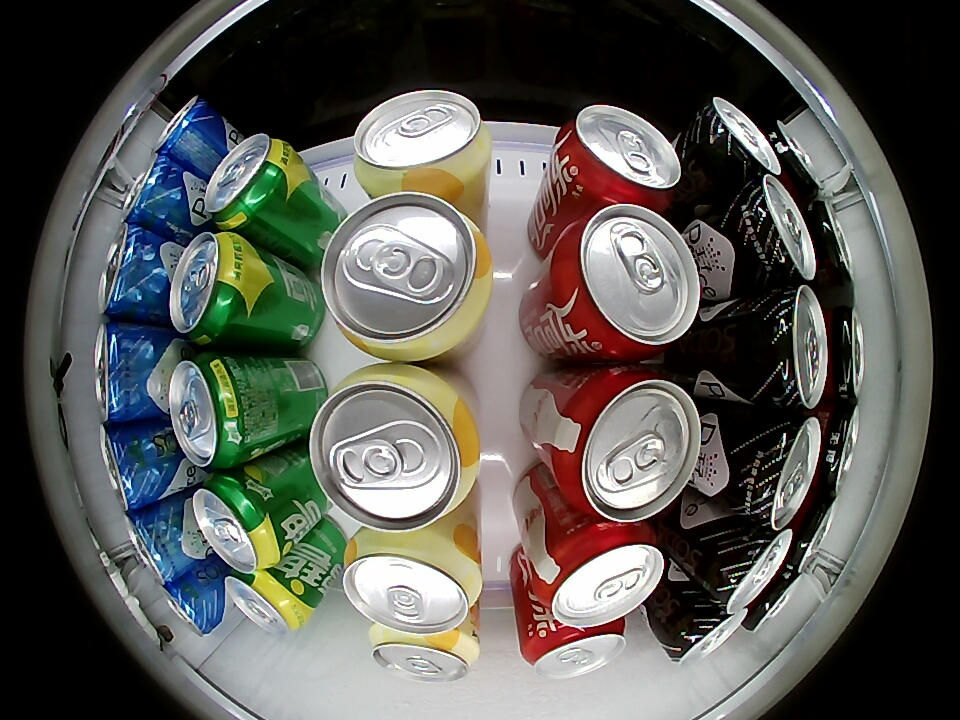kele: (552, 366, 703, 522), (552, 204, 701, 361), (534, 522, 665, 628), (558, 105, 682, 206), (522, 620, 628, 680)
lingdukele: (805, 199, 856, 294), (768, 121, 823, 202), (812, 401, 860, 493), (784, 491, 838, 571), (821, 306, 864, 400), (746, 569, 804, 633)
mangguoxiaolao: (319, 191, 493, 361), (309, 365, 479, 530), (341, 530, 480, 636), (352, 90, 490, 195), (370, 627, 481, 684)
qingdaowangzi-1: (741, 286, 828, 411), (729, 414, 821, 528), (726, 174, 816, 287), (703, 518, 793, 613), (692, 96, 780, 185), (665, 597, 748, 665)
qingdaowangzi-2: (94, 322, 161, 424), (98, 223, 168, 320), (100, 422, 169, 510), (120, 153, 188, 233), (123, 505, 191, 584), (153, 97, 222, 162), (159, 571, 226, 636)
xuebi2: (168, 351, 256, 468), (169, 231, 259, 345), (190, 471, 284, 573), (202, 133, 297, 232), (225, 569, 307, 636)
